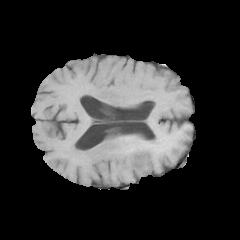glioma: (62, 118, 173, 178)
